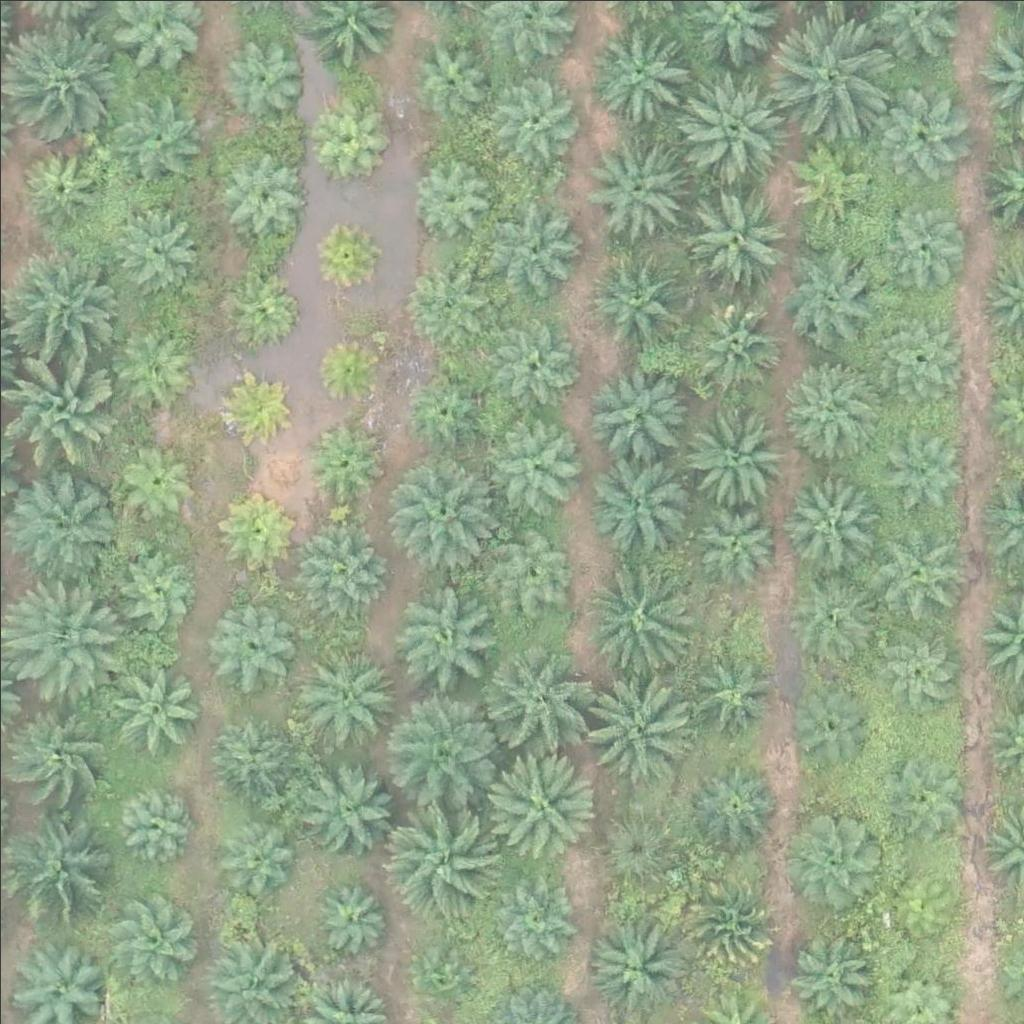Kelapa_Sawit: (583, 666, 696, 780), (585, 8, 698, 121), (1, 248, 114, 361), (388, 690, 501, 803), (387, 580, 500, 693), (386, 457, 499, 570), (477, 644, 590, 757), (481, 748, 594, 861), (587, 553, 700, 666), (775, 16, 888, 129), (1, 804, 113, 918), (382, 799, 494, 913), (11, 14, 123, 127), (674, 64, 786, 177), (9, 470, 121, 583), (9, 585, 121, 698), (5, 698, 117, 811), (587, 141, 687, 242), (102, 652, 202, 753), (298, 648, 398, 749), (588, 919, 688, 1020), (591, 449, 691, 550), (586, 366, 686, 467), (686, 193, 786, 294), (587, 249, 687, 350), (480, 197, 580, 298), (684, 401, 784, 502), (780, 364, 880, 465), (299, 754, 399, 854), (784, 808, 884, 908), (675, 873, 775, 973), (779, 247, 879, 347), (863, 519, 963, 619), (112, 778, 200, 867), (883, 202, 971, 291), (18, 140, 106, 228), (223, 147, 311, 235), (497, 75, 585, 163), (401, 367, 489, 455), (401, 249, 489, 337), (104, 889, 192, 977), (210, 816, 298, 904), (598, 799, 686, 887), (786, 683, 874, 771), (693, 653, 781, 741), (115, 439, 203, 527), (110, 316, 198, 404), (491, 411, 579, 499), (490, 319, 578, 407), (489, 868, 577, 956), (688, 760, 776, 848), (688, 503, 776, 591), (872, 621, 960, 709), (880, 418, 968, 506), (876, 314, 964, 402), (119, 89, 206, 178), (222, 31, 309, 119), (406, 151, 493, 239), (409, 27, 496, 115), (877, 98, 964, 186), (208, 711, 295, 799), (113, 541, 200, 629), (112, 207, 199, 295), (298, 531, 385, 619), (211, 600, 298, 688), (486, 522, 573, 610), (694, 297, 781, 385), (794, 932, 881, 1020), (788, 574, 875, 662), (880, 750, 967, 838), (785, 473, 872, 561), (884, 849, 971, 937), (786, 137, 873, 225), (313, 878, 388, 954), (229, 273, 304, 349), (312, 93, 387, 169), (307, 220, 382, 296), (214, 369, 289, 445), (304, 428, 379, 503), (312, 331, 387, 406), (214, 492, 289, 567), (415, 947, 477, 1010)
